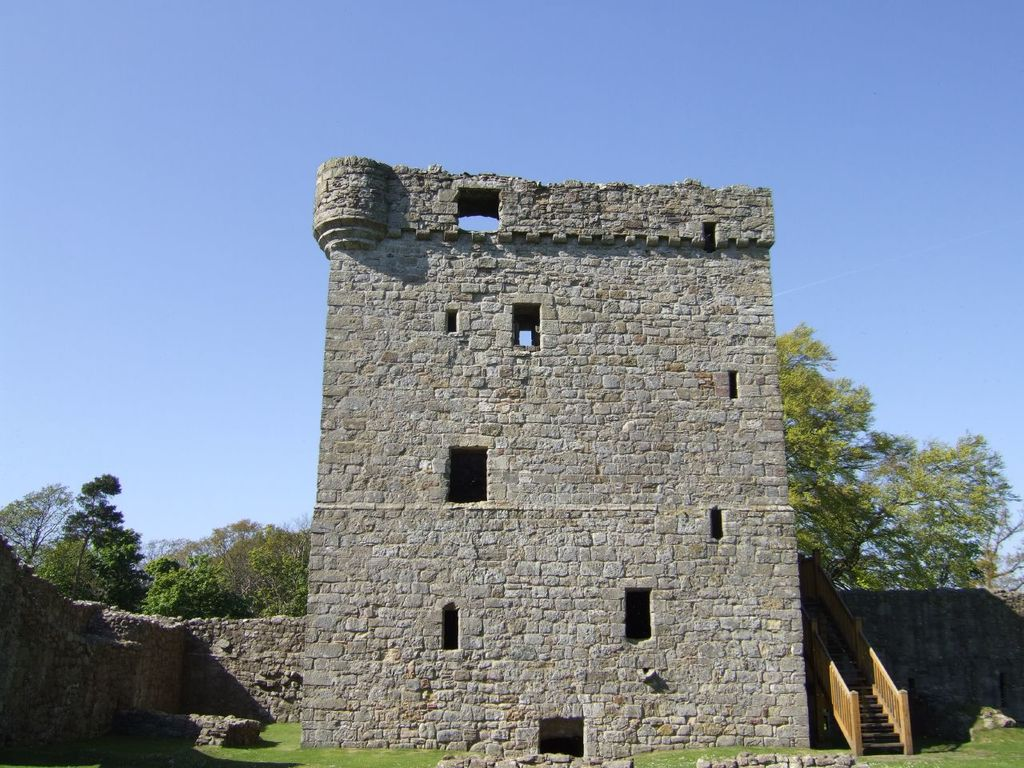Tree: (772, 315, 1023, 622), (0, 470, 313, 617)
